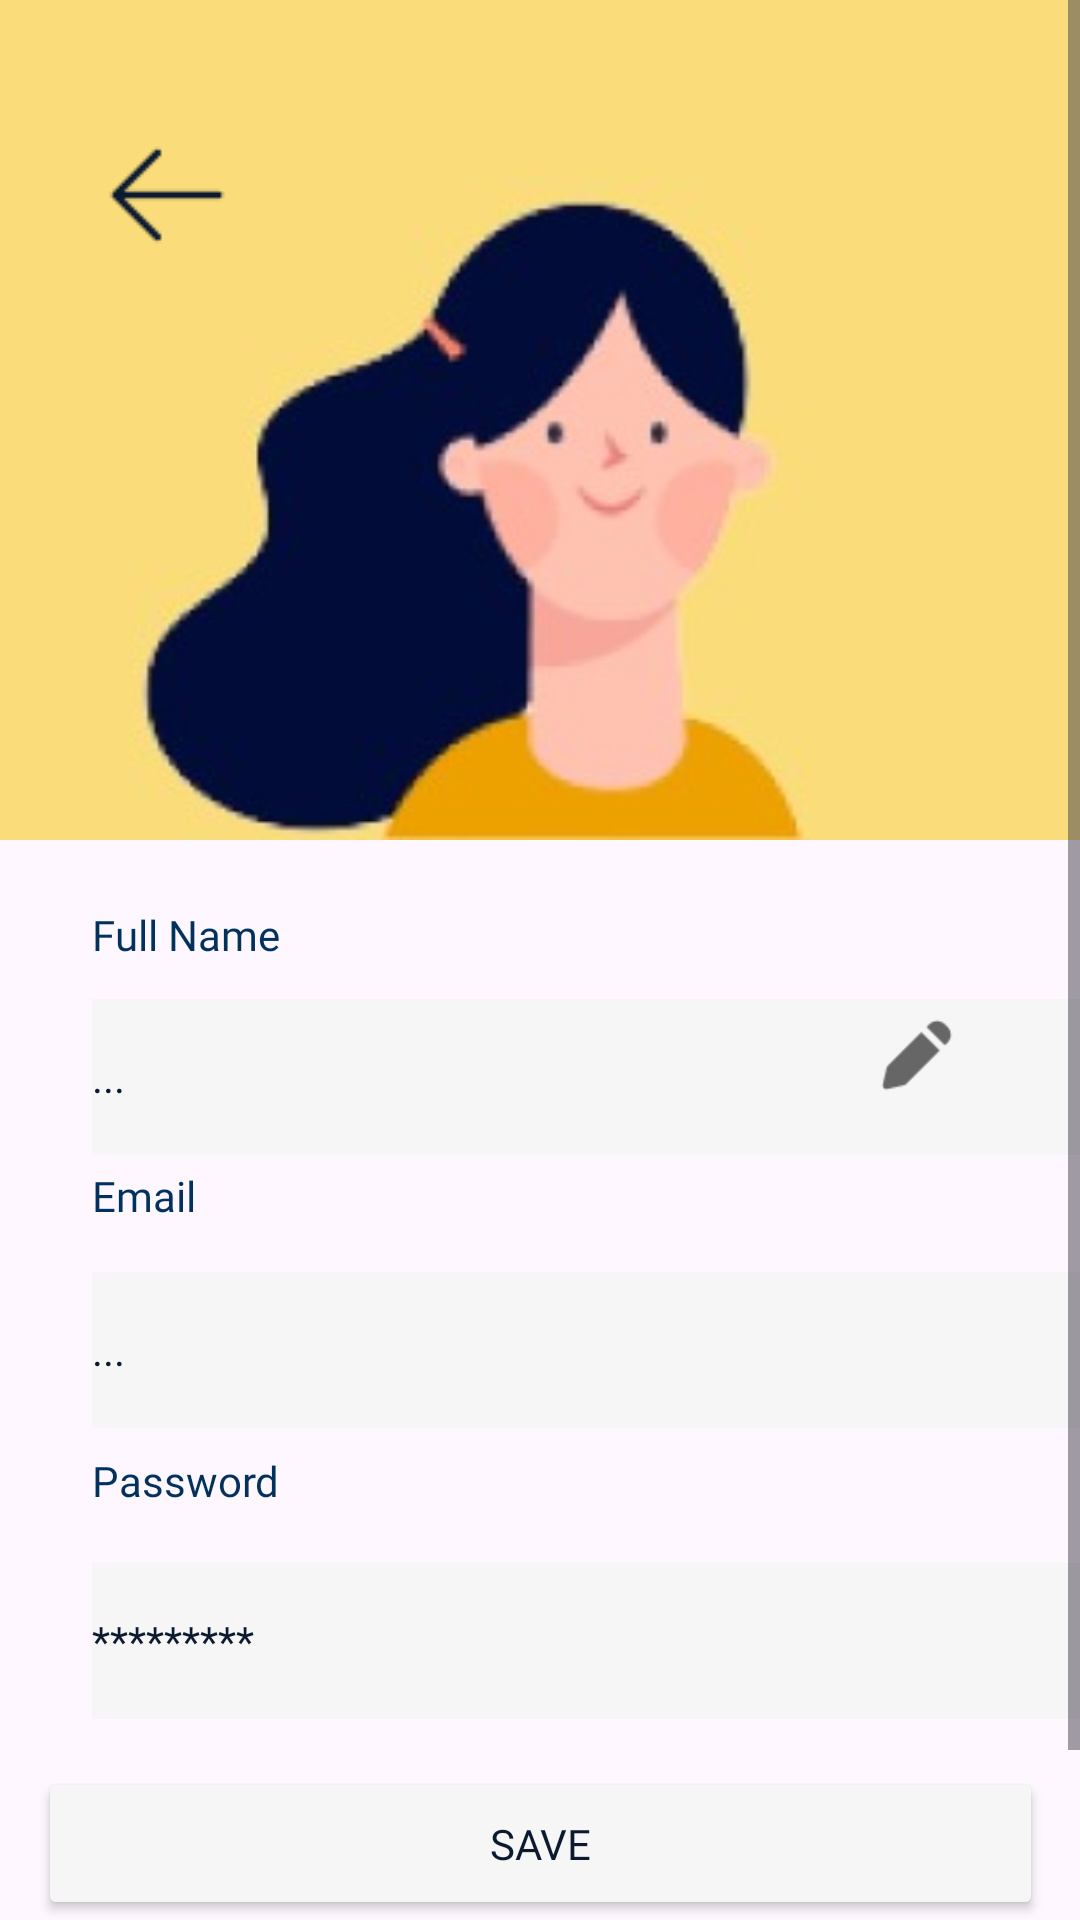

Where to tap for icons on this 1080*1920 app screen, as [x,y]:
profile setting edit: [917,1055]
